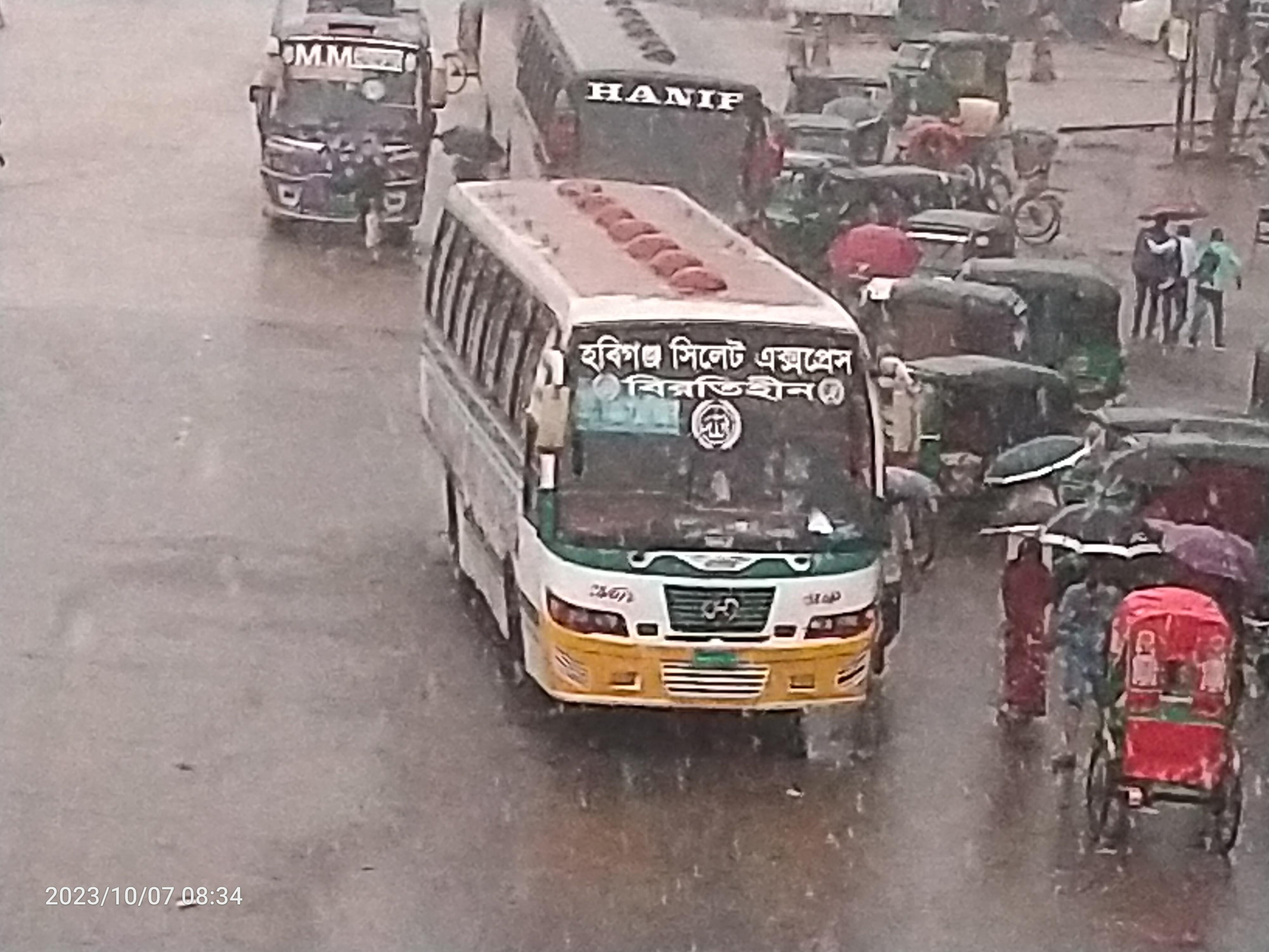Bus: (359, 142, 953, 803), (486, 0, 781, 284), (207, 0, 482, 275)
Car: (1063, 548, 1269, 906)
